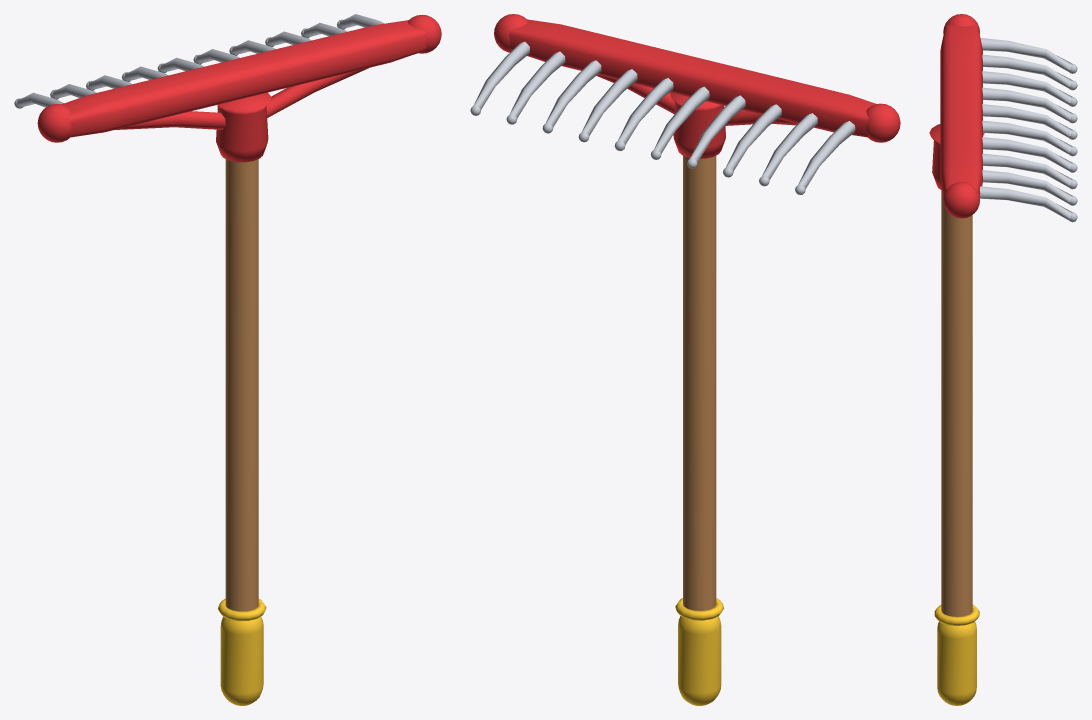
File: GardenRake.obj
3 renders of one model, left to right at view 1: azimuth 30°, elevation 25°; view 2: azimuth 150°, elevation 25°; view 3: azimuth 270°, elevation 25°, orthographic. The views are drawn at different scales.
Visible parts, largest first — view 1: RakeHead, RakeHandle, RakeTines, RakeGrip; view 2: RakeHead, RakeHandle, RakeTines, RakeGrip; view 3: RakeHandle, RakeTines, RakeHead, RakeGrip.
Part boxes in pixels (x1=…): RakeHead: x1=37, y1=14, x2=441, y2=162; RakeHandle: x1=225, y1=159, x2=258, y2=621; RakeTines: x1=14, y1=14, x2=384, y2=108; RakeGrip: x1=218, y1=598, x2=266, y2=705; RakeHead: x1=494, y1=14, x2=900, y2=158; RakeHandle: x1=683, y1=155, x2=716, y2=610; RakeTines: x1=470, y1=41, x2=855, y2=194; RakeGrip: x1=675, y1=598, x2=724, y2=705; RakeHandle: x1=941, y1=190, x2=972, y2=616; RakeTines: x1=979, y1=38, x2=1077, y2=222; RakeHead: x1=929, y1=14, x2=984, y2=218; RakeGrip: x1=934, y1=604, x2=979, y2=705.
Size of the model in its own units: 4.7 by 7.22 by 1.6.
